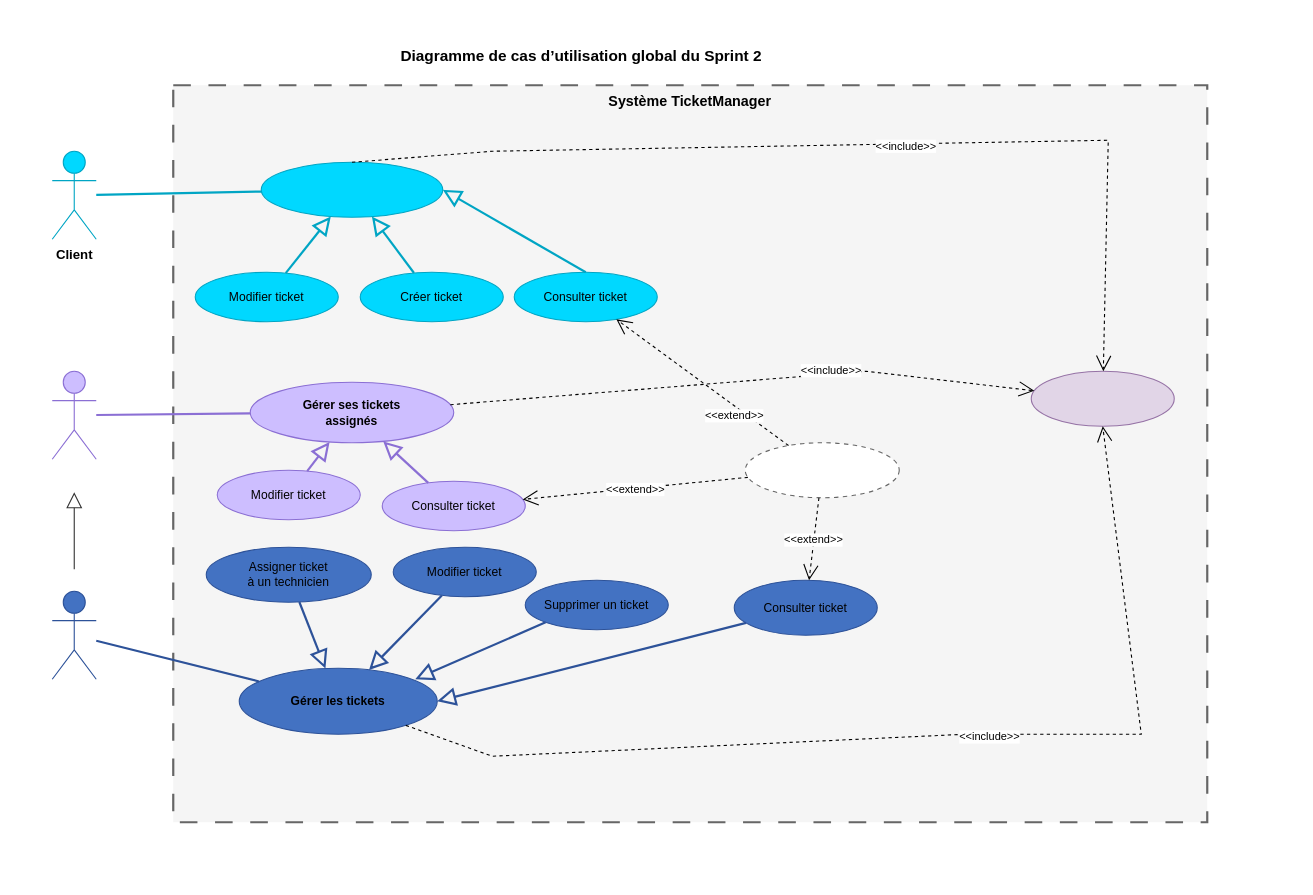
Some shapes in this 1313 by 895 pixel diagram are drawn without their labels. The shapes that lost their labels are listed below. From the top down, each one's box as (x1, y1, x2, y2) in pixels, then its label:
(260, 161, 443, 217): Gérer ses tickets
(51, 370, 96, 459): Technicien
(1030, 370, 1174, 426): S'authentifier
(744, 442, 899, 498): Filtrer ticket
(51, 590, 96, 679): Admin
